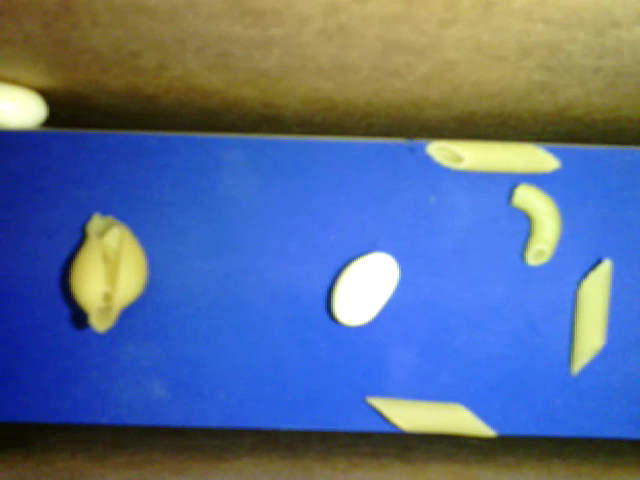elbow: (510, 181, 560, 267)
penne: (366, 395, 498, 437), (424, 138, 562, 175), (570, 257, 613, 375)
shell: (69, 213, 149, 334)
